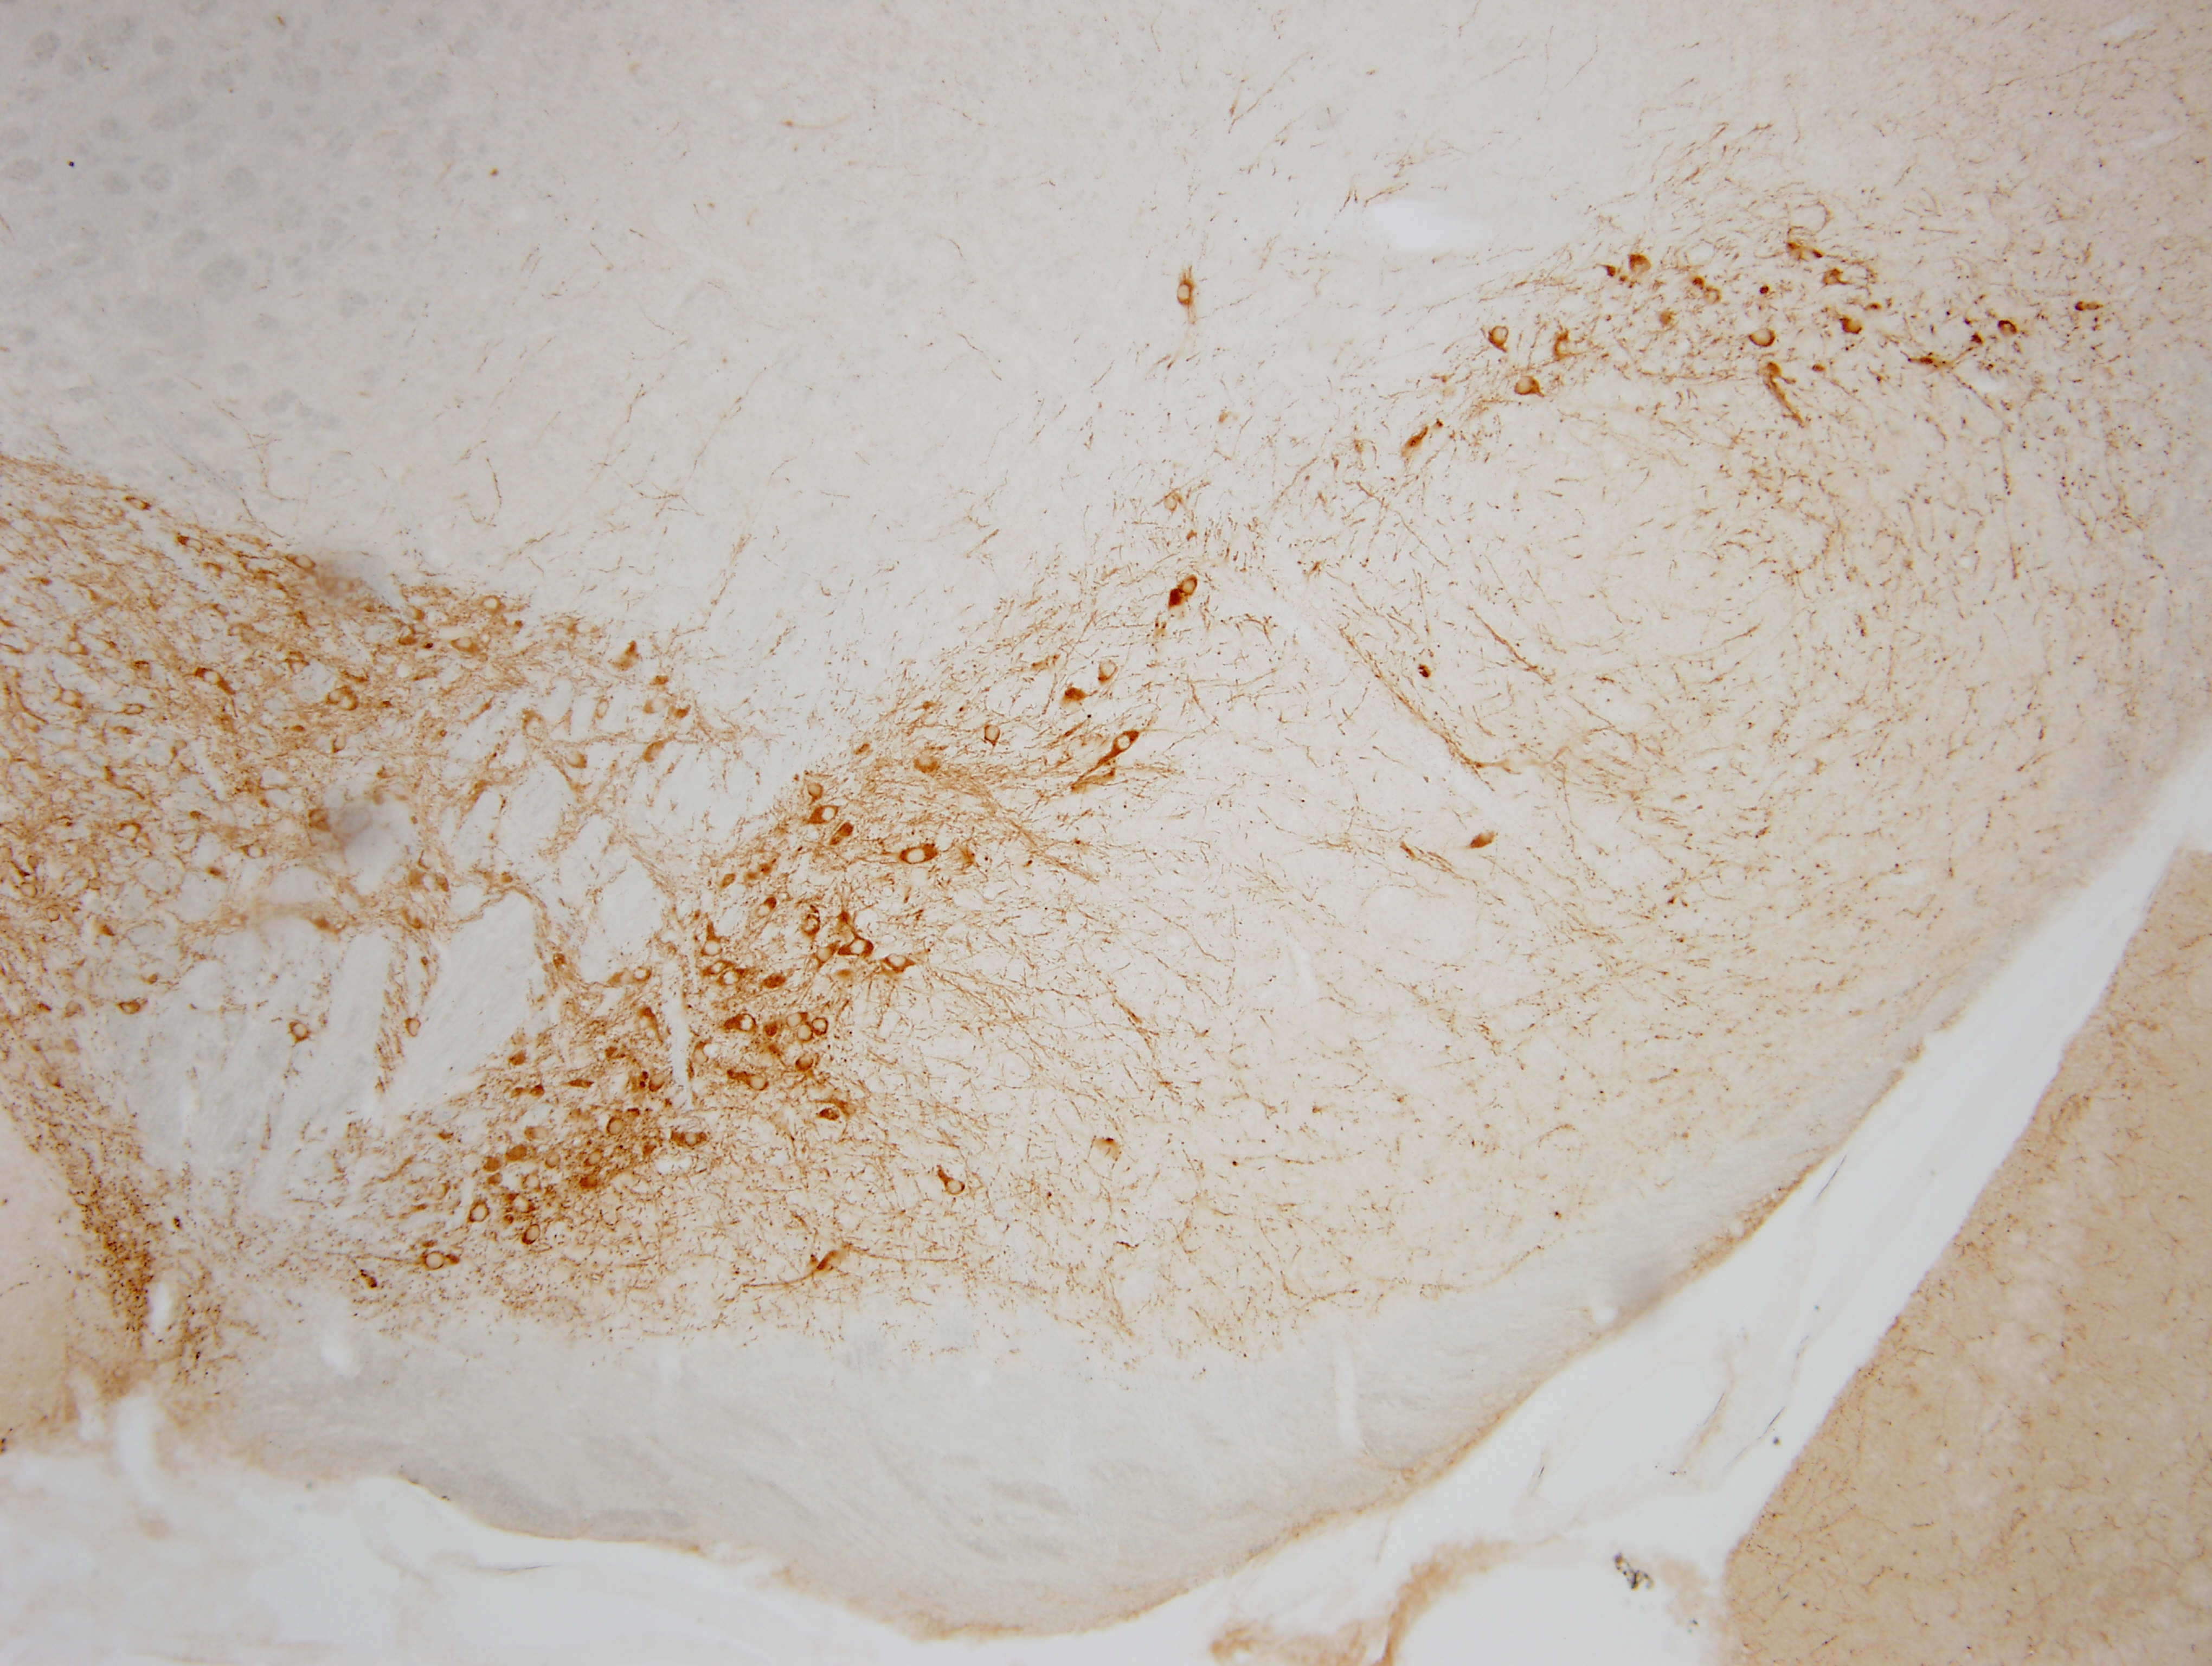neuron: (727, 1010, 761, 1043), (977, 719, 1011, 753), (1093, 653, 1126, 686), (1834, 311, 1868, 345), (696, 936, 729, 968), (715, 964, 747, 998), (745, 1066, 776, 1099), (750, 894, 782, 928), (778, 1006, 811, 1038), (813, 803, 846, 835), (846, 931, 878, 964), (1109, 731, 1142, 763), (1173, 574, 1207, 606), (1485, 322, 1516, 355), (1623, 254, 1656, 285), (1749, 327, 1782, 359), (796, 914, 827, 945), (887, 949, 918, 980), (899, 843, 930, 875), (911, 753, 943, 784), (1509, 371, 1541, 402), (544, 1150, 570, 1176), (565, 749, 591, 775), (58, 686, 84, 712), (582, 1145, 609, 1171), (58, 996, 84, 1022), (603, 1115, 630, 1141), (63, 633, 89, 660), (631, 966, 657, 992), (645, 691, 671, 718), (680, 1132, 706, 1159), (792, 1048, 818, 1074), (804, 781, 831, 807), (810, 943, 836, 970), (810, 1017, 836, 1043), (943, 1174, 969, 1200), (1156, 492, 1182, 518), (1173, 280, 1200, 306), (119, 996, 145, 1022), (119, 700, 145, 726), (124, 490, 150, 516), (1698, 283, 1724, 310), (182, 534, 208, 560), (198, 665, 224, 691), (1995, 315, 2021, 341), (21, 851, 47, 877), (243, 838, 269, 865), (323, 683, 350, 709), (327, 735, 353, 761), (400, 1019, 427, 1045), (40, 905, 66, 931), (423, 1249, 449, 1276), (451, 633, 477, 660), (477, 595, 504, 621), (519, 1171, 546, 1197), (591, 698, 617, 723), (121, 819, 145, 845), (16, 882, 42, 906), (287, 1020, 313, 1045), (292, 551, 318, 576), (469, 1200, 493, 1227), (519, 1223, 546, 1248)
